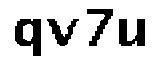7: (83, 6, 114, 54)
q: (11, 17, 44, 60)
u: (116, 15, 146, 51)
v: (46, 15, 76, 47)
